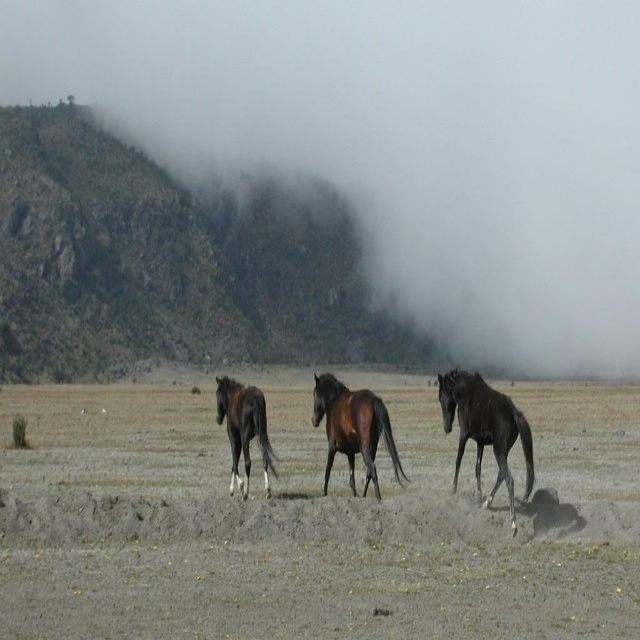Horse: (437, 363, 538, 538), (310, 368, 414, 499), (215, 372, 281, 499)
